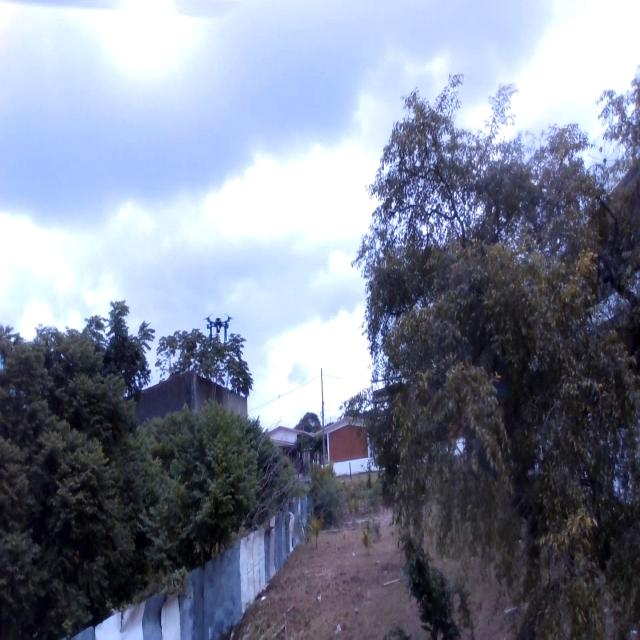-uav-: (197, 308, 238, 356)
